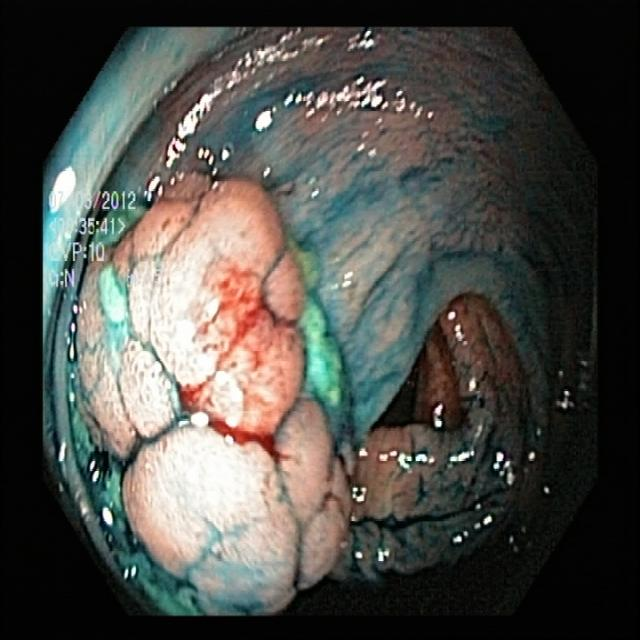diedpolyp: (61, 192, 379, 618)
